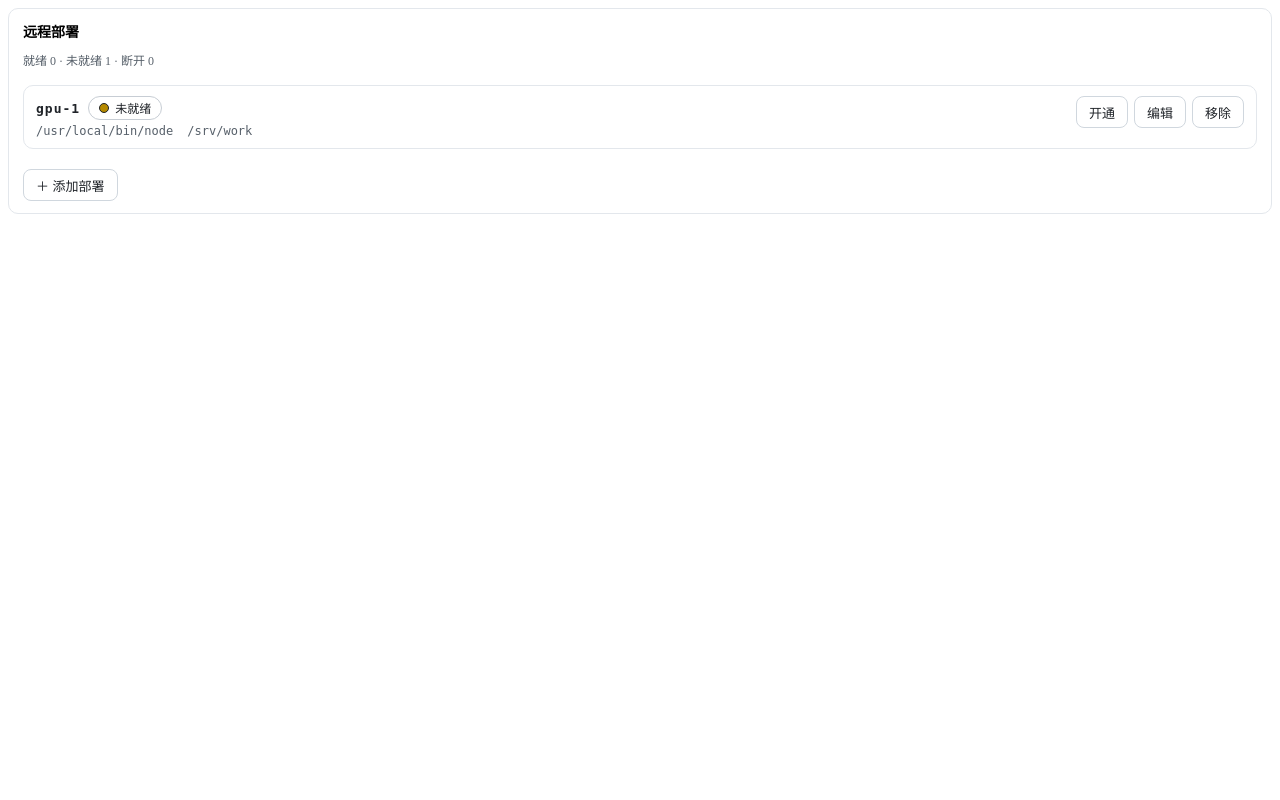
it: 开通向导（拉式步进） › 全流程自动推进：四步 ok → 向导收束、部署就绪（provisionRun ×4）
Click the button with test id "deploy-provision" at (1102, 112), box x1=1076 y1=96 x2=1128 y2=128
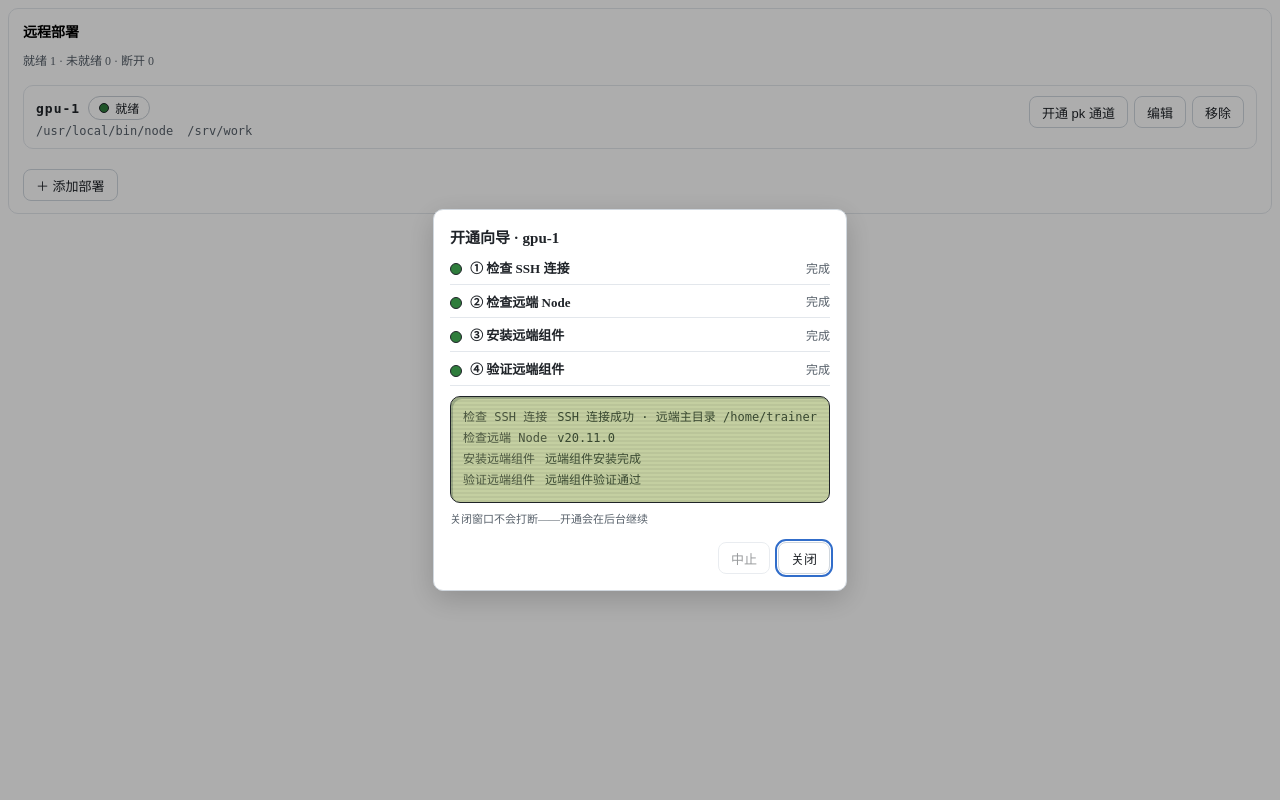
Expected: the text "就绪" is shown, x1=88 y1=96 x2=150 y2=120
Expected: the element with test id "deploy-wizard" is shown, x1=450 y1=255 x2=830 y2=528
